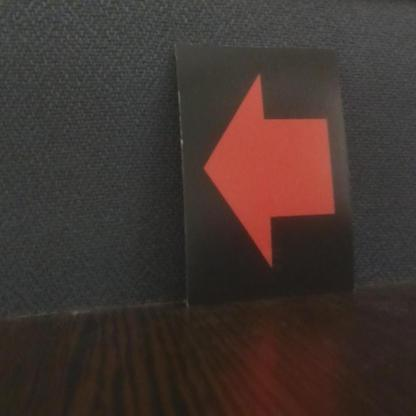left: (175, 42, 358, 294)
